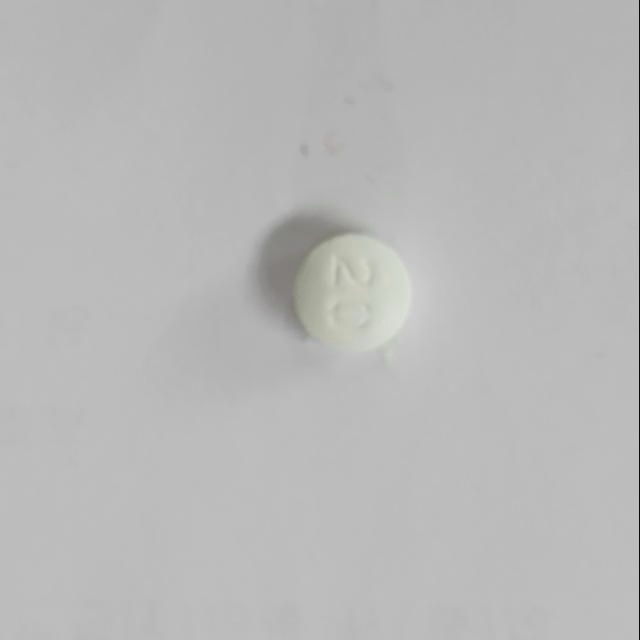pill: (288, 230, 418, 355)
